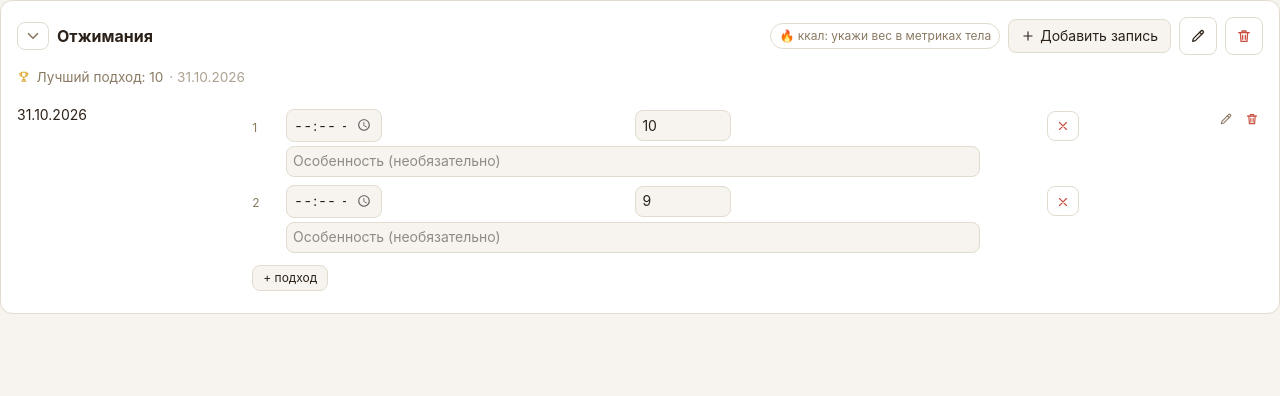
ExerciseCard: «Добавить запись» без окна › счётчик «Сегодня: N» считается по записям упражнения за сегодня
Click the button with test id "exercise-add-entry" at (1090, 36), box [1008, 19, 1171, 53]
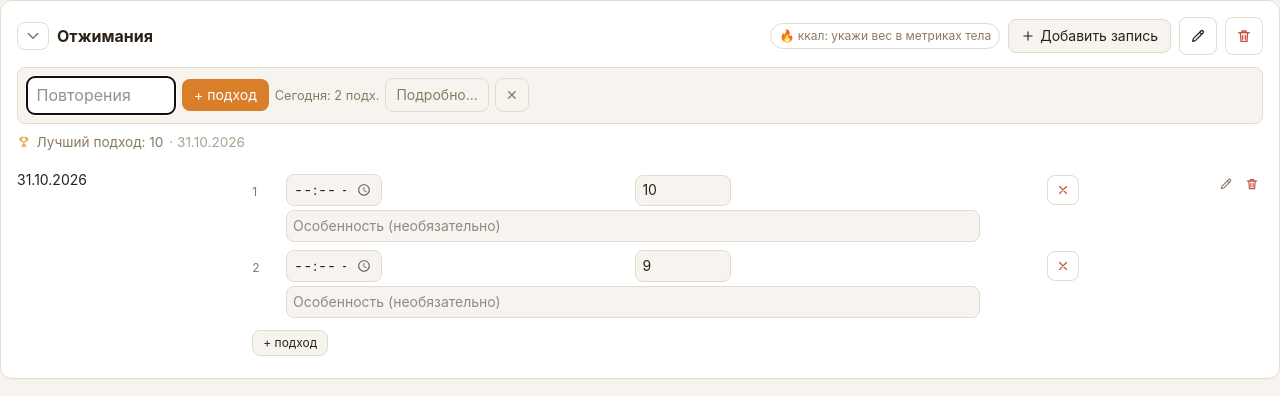
Check: the text with test id "inline-today" reads "Сегодня: 2 подх.", box [275, 88, 379, 103]
Check: the button with test id "inline-save" reads "+ подход", box [182, 79, 269, 111]
